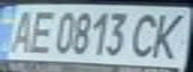0: (51, 8, 75, 55)
1: (90, 8, 112, 56)
3: (106, 9, 133, 57)
8: (69, 8, 93, 56)
A: (0, 7, 39, 55)
C: (127, 9, 166, 60)
E: (24, 7, 57, 55)
K: (145, 9, 193, 61)
